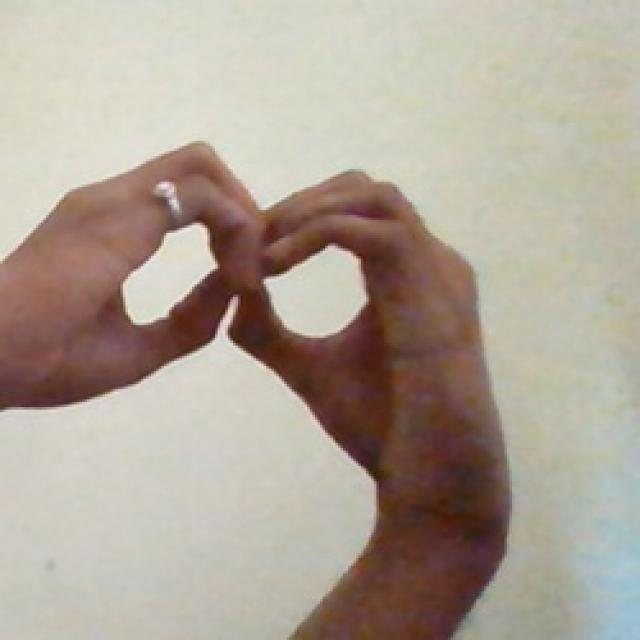Alphabet-B: (3, 136, 530, 468)
